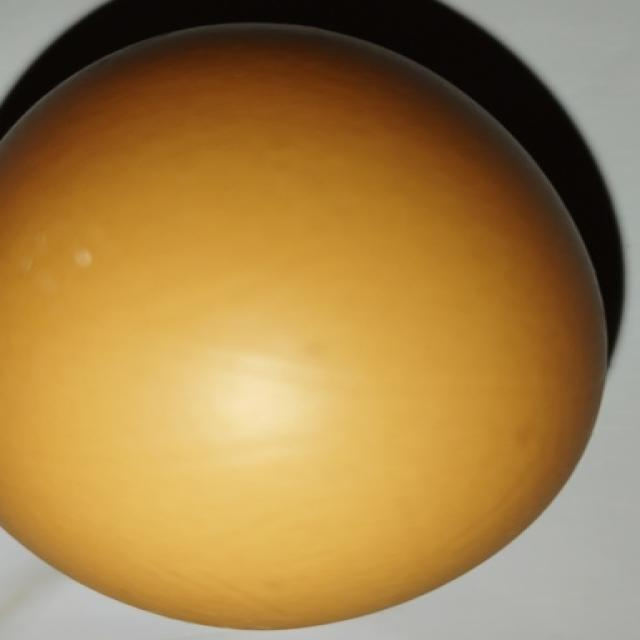fresh: (0, 16, 628, 636)
